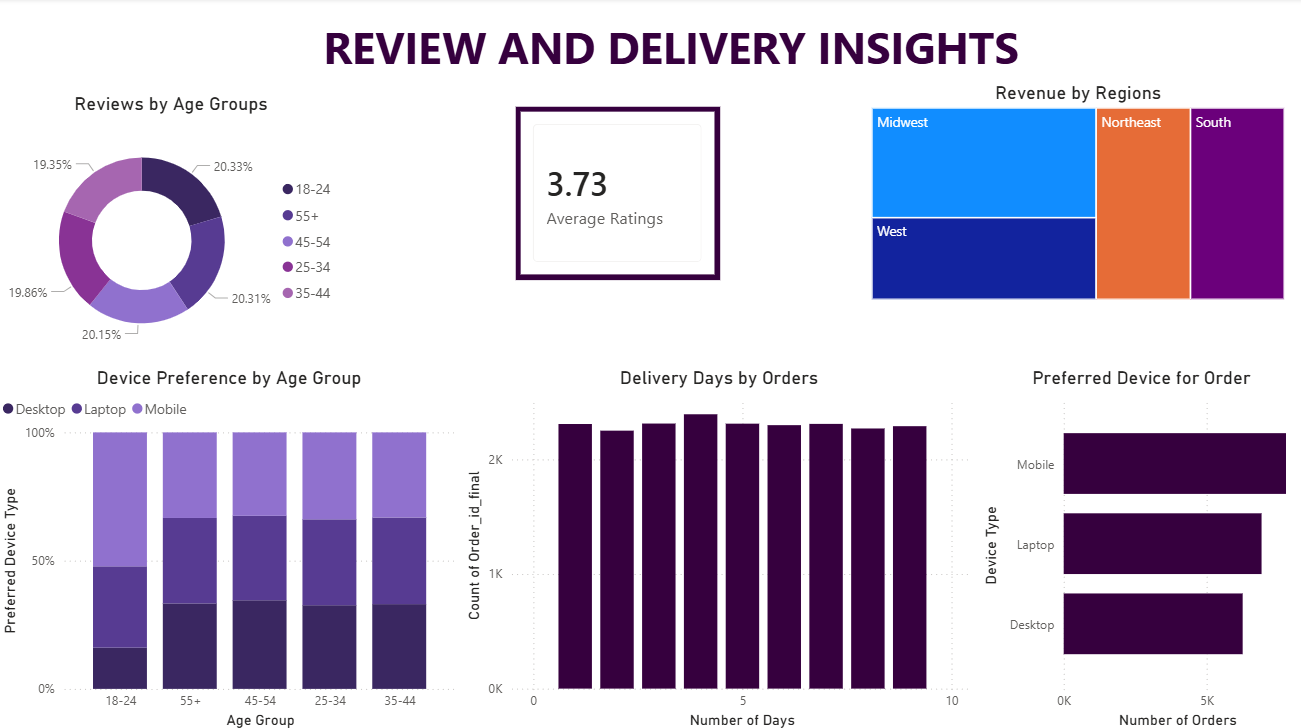

The page's visual inventory and layout, read from the dashboard file:
{"tool":"powerbi","page":{"name":"Page 3","canvas":[1280,720],"ordinal":2},"visuals":[{"type":"barChart","title":"Preferred Device for Order ","fields":{"Category":["Fact_Table.device_type"],"Y":["CountNonNull(Fact_Table.Order_id_final)"]},"box":[960,360.4,319.5,358.9],"z":0},{"type":"donutChart","title":"Reviews by Age Groups","fields":{"Category":["Fact_Table.customer_age_group"],"Y":["CountNonNull(Fact_Table.review_rating)"]},"box":[0,92.4,340.7,268],"z":1000},{"type":"treemap","title":"Revenue by Regions","fields":{"Values":["Sum(Fact_Table.final_price)"],"Group":["Fact_Table.region"]},"box":[851,81.8,413.4,218],"z":2000},{"type":"lineStackedColumnComboChart","title":"Delivery Days by Orders","fields":{"Category":["Fact_Table.delivery_days"],"Y":["CountNonNull(Fact_Table.Order_id_final)"]},"box":[454.3,360.4,505.7,358.9],"z":3000},{"type":"hundredPercentStackedColumnChart","title":"Device Preference by Age Group","fields":{"Category":["Fact_Table.customer_age_group"],"Series":["Fact_Table.device_type"],"Y":["CountNonNull(Fact_Table.Order_id_final)"]},"box":[0,360.4,454.3,358.9],"z":4000},{"type":"textbox","box":[305.9,13.6,707.1,68.1],"z":5000},{"type":"cardVisual","fields":{"Data":["Fact_Table.Average Ratings"]},"box":[507.3,106,199.9,169.6],"z":6000}]}

Visuals, with their boxes in screenshot pixels (x1, y1, x2, y2), scaled from the page's 1280x720 canvas onto the 1301x728 screenshot:
"Preferred Device for Order " barChart: Rect(976, 364, 1300, 727)
"Reviews by Age Groups" donutChart: Rect(0, 93, 346, 364)
"Revenue by Regions" treemap: Rect(865, 83, 1285, 303)
"Delivery Days by Orders" lineStackedColumnComboChart: Rect(462, 364, 976, 727)
"Device Preference by Age Group" hundredPercentStackedColumnChart: Rect(0, 364, 462, 727)
textbox: Rect(311, 14, 1030, 83)
cardVisual - Fact_Table.Average Ratings: Rect(516, 107, 719, 279)
